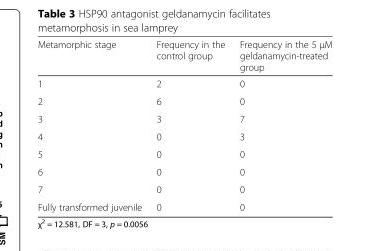table: (36, 37, 331, 212)
table column: (36, 37, 148, 212), (231, 37, 331, 212), (148, 37, 231, 212)
table column header: (36, 37, 331, 74)
table row: (36, 37, 331, 74), (36, 74, 331, 92), (36, 109, 331, 127), (36, 144, 331, 162), (36, 162, 331, 180), (36, 92, 331, 109), (36, 127, 331, 144), (36, 180, 331, 197), (36, 197, 331, 212)
